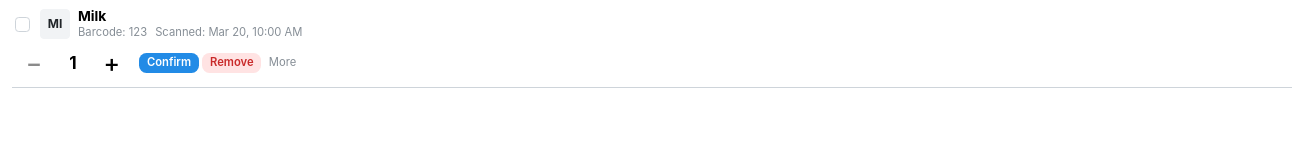
ScanEntryCard approve scan rename › shows error message on simulated failure
The width and height of the screenshot is (1292, 160).
Click the button "Confirm".
click(169, 63)  # box [139,53,199,73]
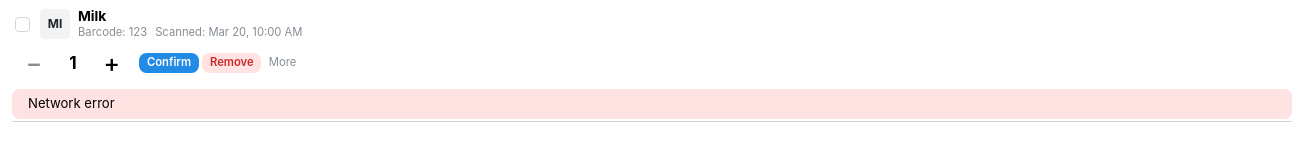
Expected: the message "Network error" is shown, [12,89,1291,118]
Expected: the message reads "Network error", [28,96,115,112]
